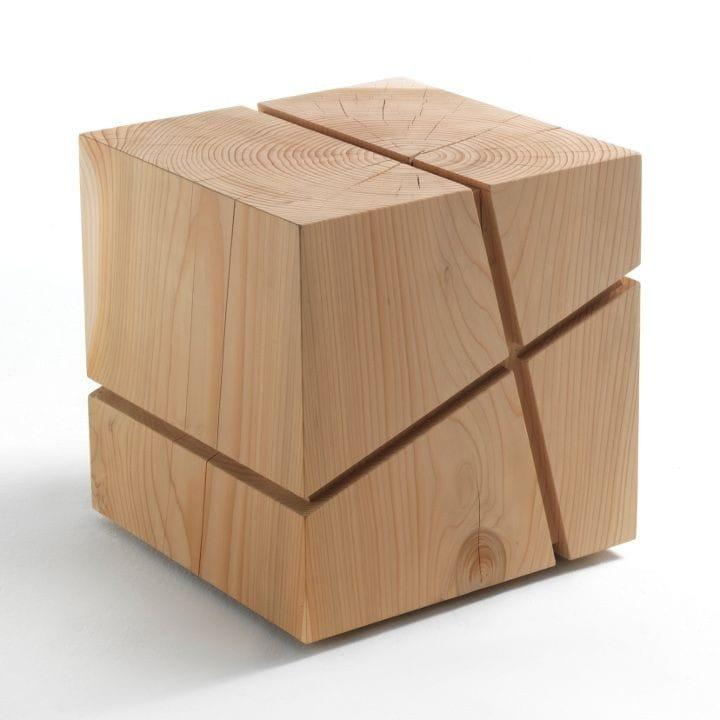cubos: (73, 70, 655, 662)
